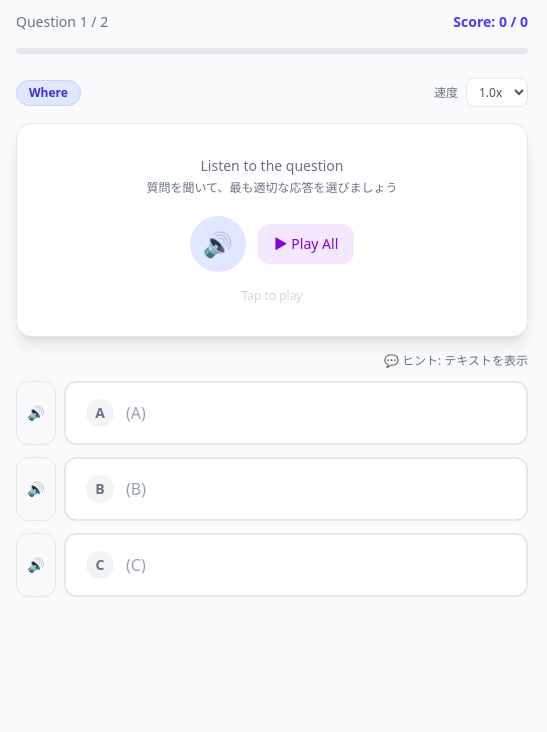
Test: Part2Listening › marks a wrong selection and keeps score at zero
What coordinates should you click on to do the following:
click the button named "応答 B"
I would click on:
 (100, 489)
Its box is [64,457,528,521].
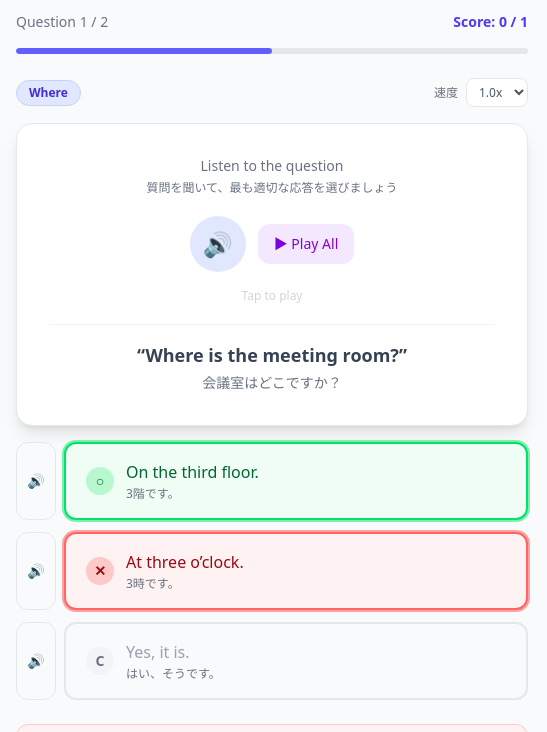
Expected: the text "Score: 0 / 1" is shown, [453,12,528,32]
